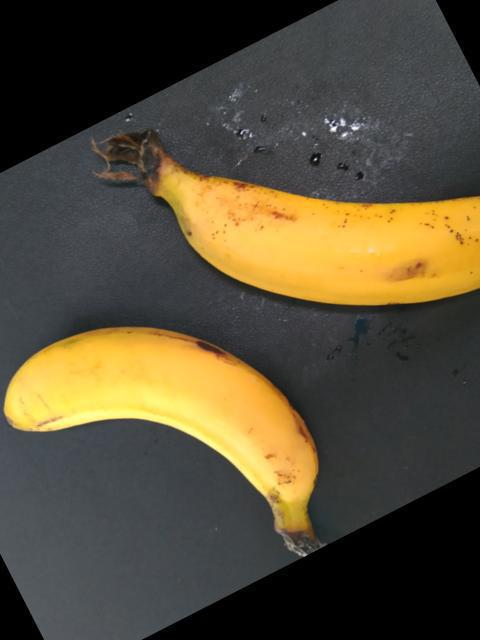freshripe: (0, 305, 324, 529)
ripe: (118, 132, 479, 307)
